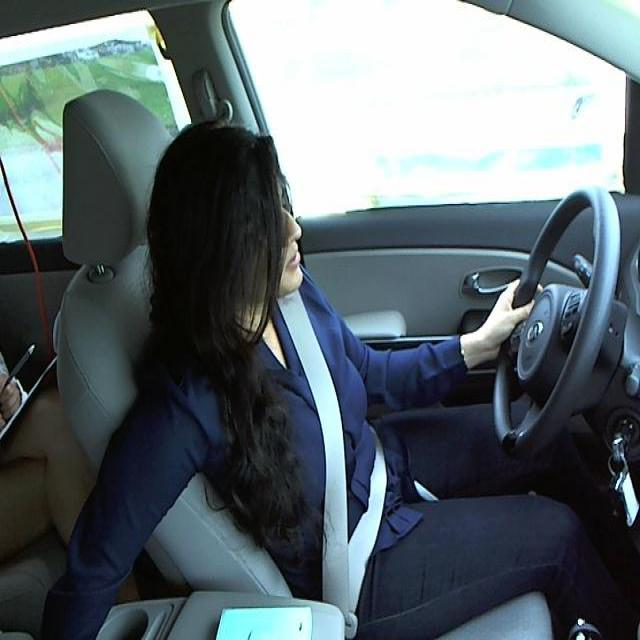seatbelt: (274, 315, 401, 588)
